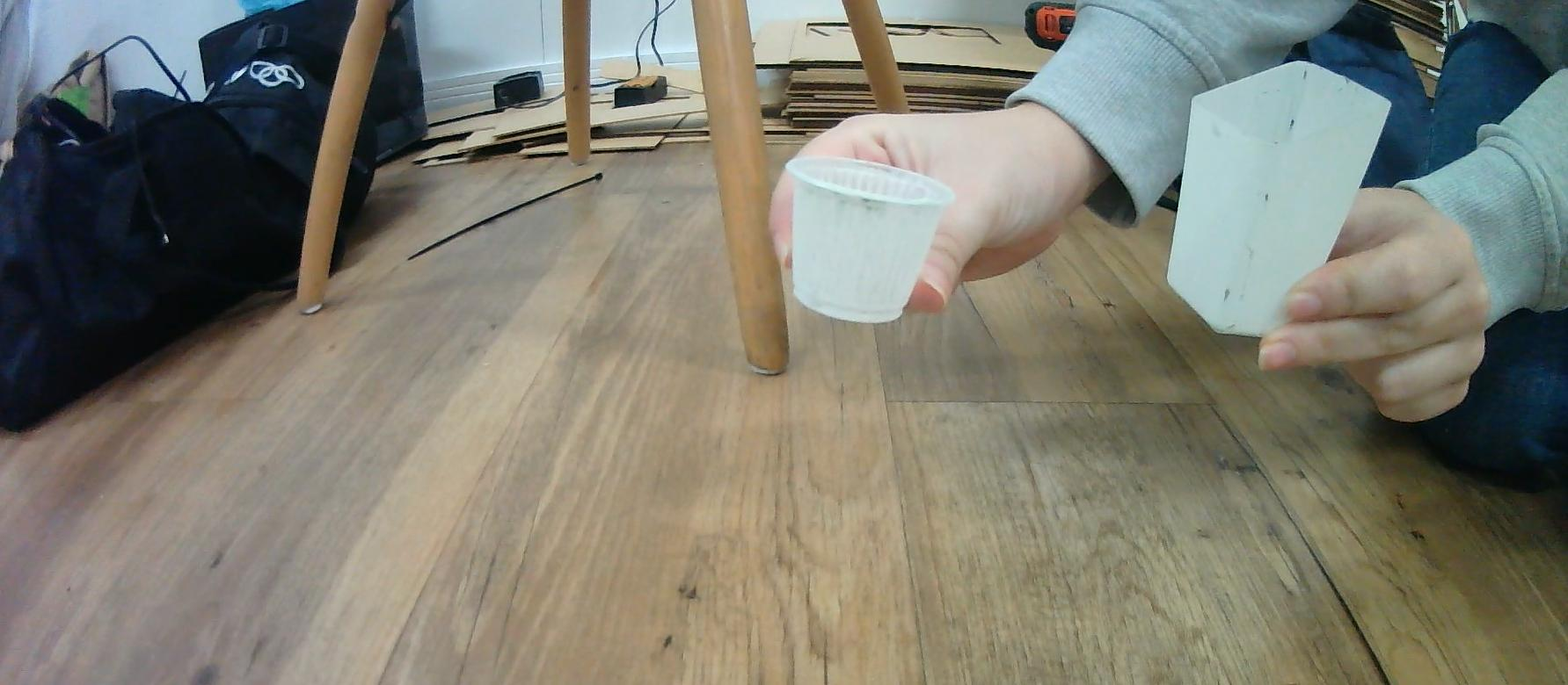erva_daninha: (1166, 58, 1395, 339)
planta: (784, 155, 958, 324)
